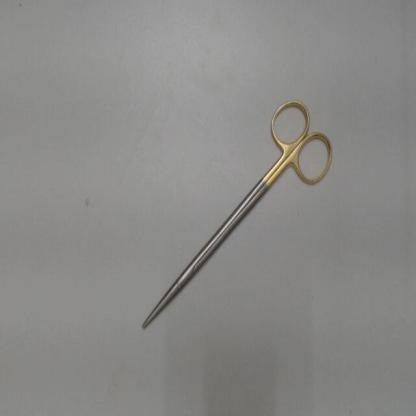7 Metzenbaum Scissors: (137, 91, 338, 335)
